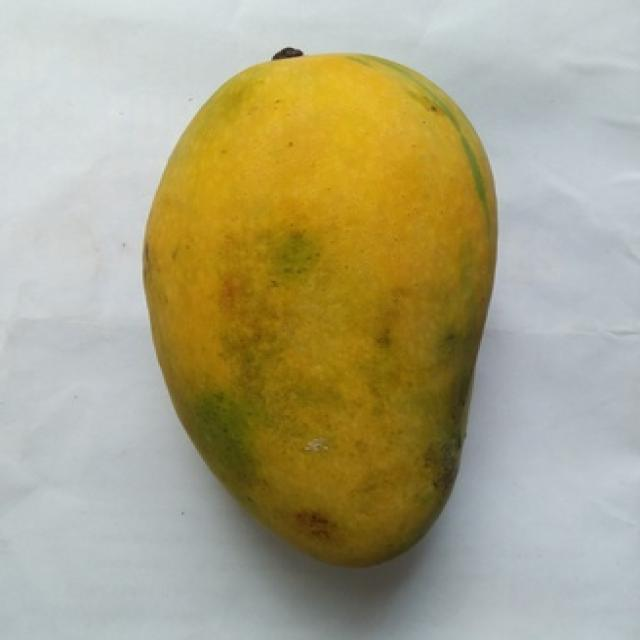Mango: (144, 54, 492, 563)
